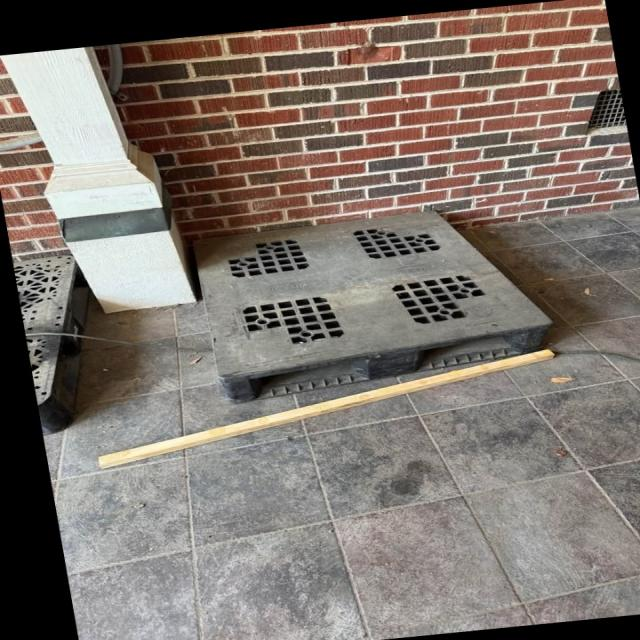non-igps: (185, 203, 559, 413), (10, 252, 94, 439)
